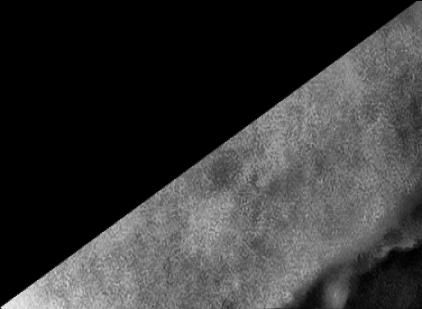stairs: (1, 1, 422, 309)
